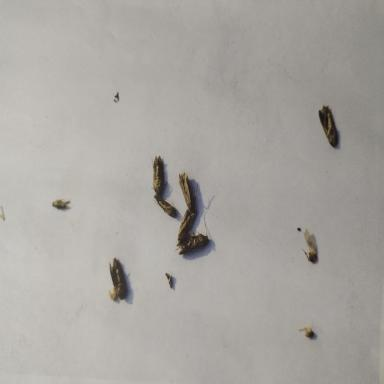pbw: (173, 221, 211, 257), (176, 170, 201, 215), (107, 255, 129, 304), (148, 152, 170, 200), (318, 102, 340, 150), (176, 203, 198, 250), (151, 192, 181, 221), (50, 197, 73, 212)
